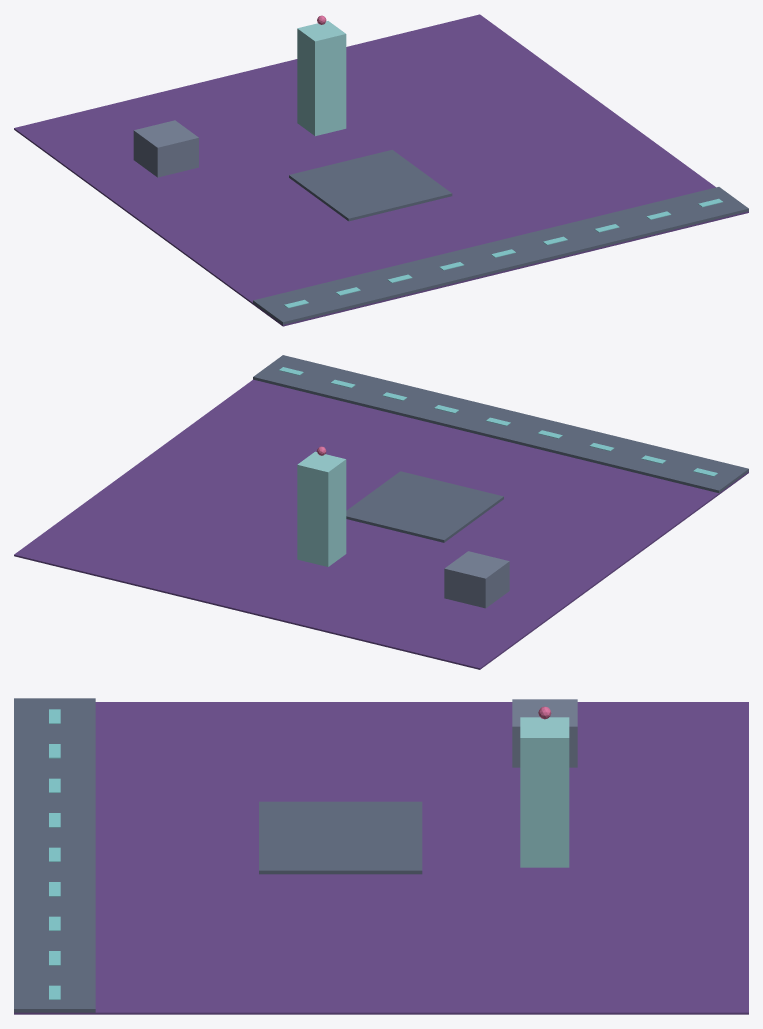
File: stage_03.glb
The picture shows the model from 3 angles, top to bottom: view 1: azimuth 30°, elevation 25°; view 2: azimuth 150°, elevation 25°; view 3: azimuth 270°, elevation 25°; orthographic projection. The views are drawn at different scales.
Visible parts, largest first — view 1: geometry_0; view 2: geometry_0; view 3: geometry_0.
Part boxes in pixels (x1,y1,x2,y2): geometry_0: (14, 14, 748, 326); geometry_0: (14, 355, 748, 669); geometry_0: (14, 698, 748, 1014).
Bounding box in the file's own units: 9 × 2.06 × 9.
